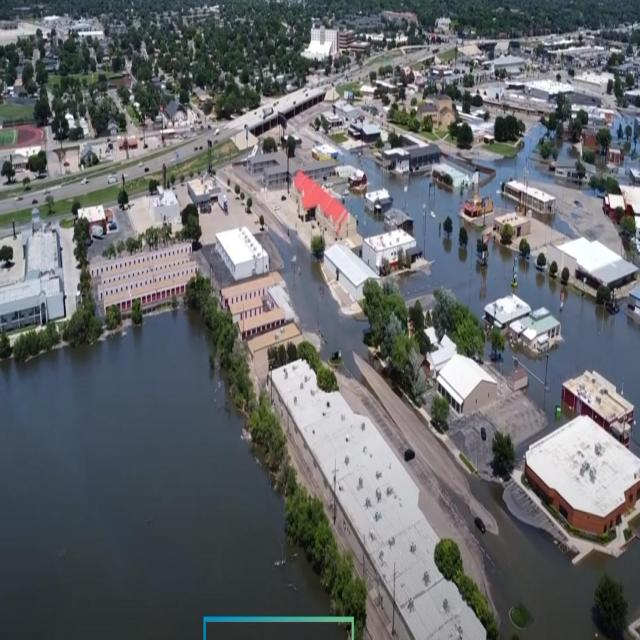flood: (0, 310, 330, 637), (365, 159, 640, 448), (471, 474, 640, 637), (385, 173, 483, 312), (279, 235, 365, 374), (550, 306, 640, 414), (474, 125, 555, 207), (488, 248, 510, 291), (352, 199, 371, 232), (365, 154, 382, 183)
house: (266, 355, 493, 640), (523, 412, 640, 554), (86, 247, 202, 326), (0, 220, 66, 342), (550, 236, 639, 308), (220, 288, 308, 360), (563, 366, 635, 448), (290, 162, 357, 248), (438, 352, 499, 424), (216, 225, 271, 282), (382, 138, 442, 190), (364, 226, 422, 276), (510, 308, 565, 357), (601, 178, 640, 238), (504, 178, 558, 218), (486, 290, 532, 336), (248, 152, 290, 196), (416, 90, 455, 131), (307, 26, 343, 64), (495, 211, 531, 248), (186, 174, 221, 209), (462, 193, 494, 228), (364, 185, 394, 219), (164, 98, 191, 135), (385, 207, 416, 232), (79, 142, 103, 171), (508, 366, 529, 396), (322, 112, 346, 136)
